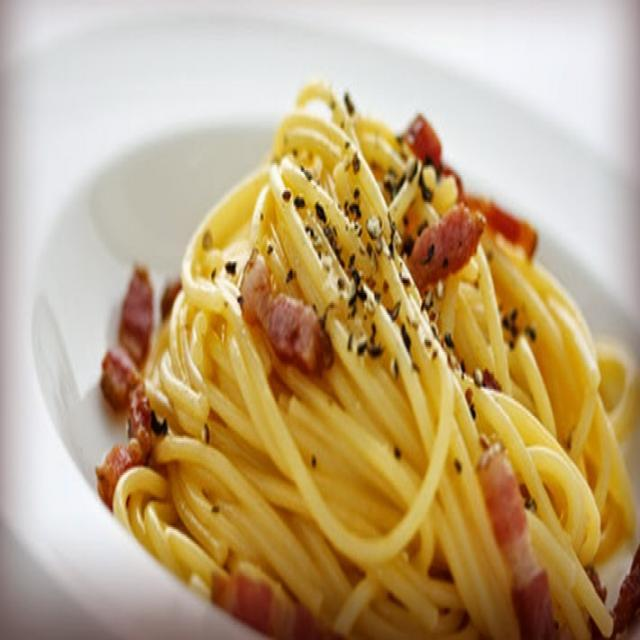Pasta with carbonara sauce: (42, 54, 598, 622)
